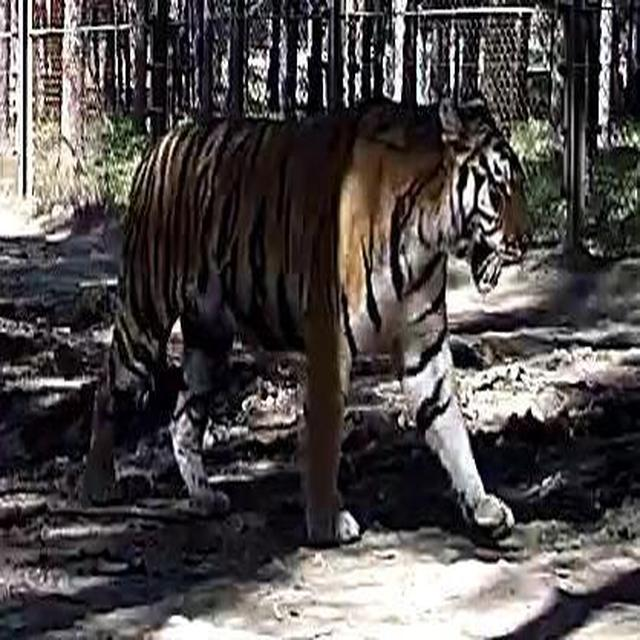tiger: (79, 88, 531, 547)
